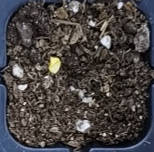pepper seed: (16, 18, 79, 93)
